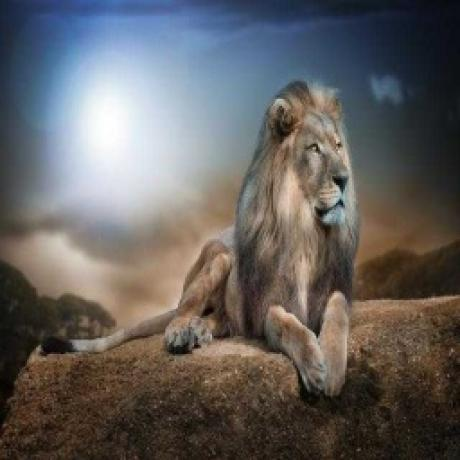Lion: (44, 77, 362, 399)
